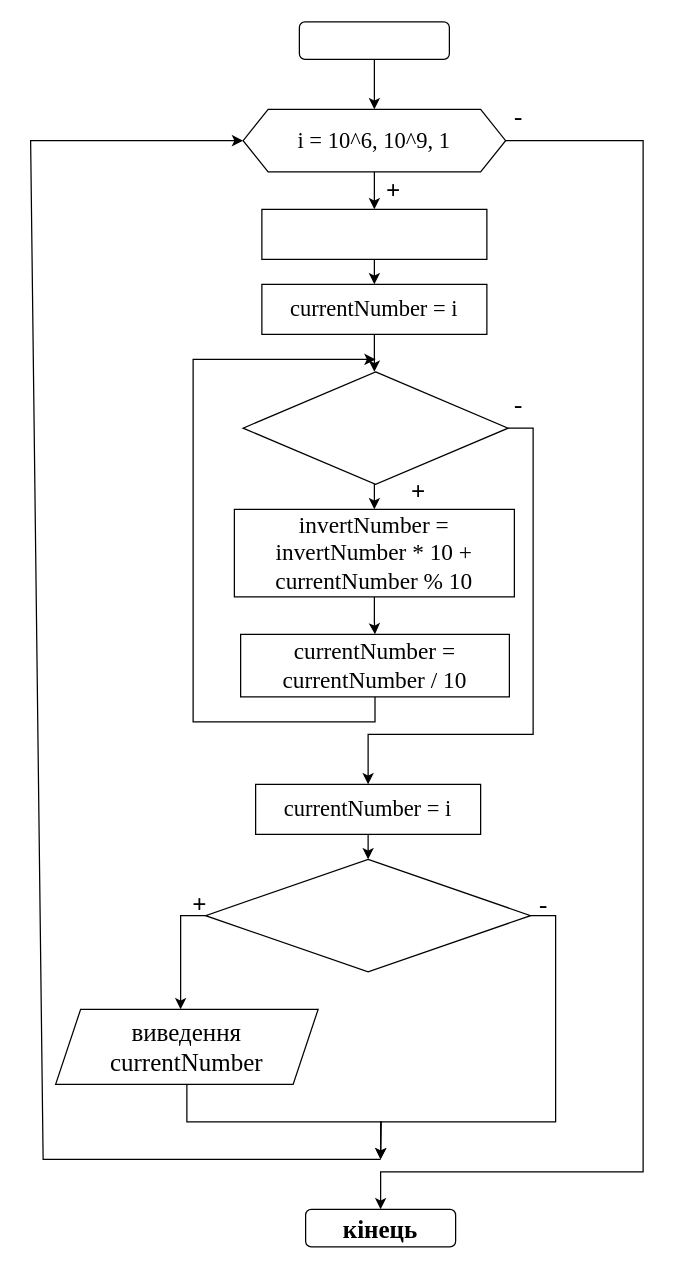
The diagram is 675 pixels wide and 1269 high, and some of its shapes have lost their labels. The shapes that lost their labels are listed below. From the top down, each one's centre as x and y in pixels, then its label:
At point 373,40: "початок".
At point 374,233: "invertNumber = 0".
At point 375,427: "currentNumber > 0".
At point 367,915: "currentNumber == invertNumber".
